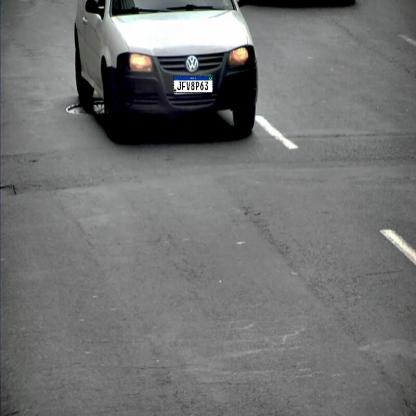PlacaM: (173, 75, 213, 93)
